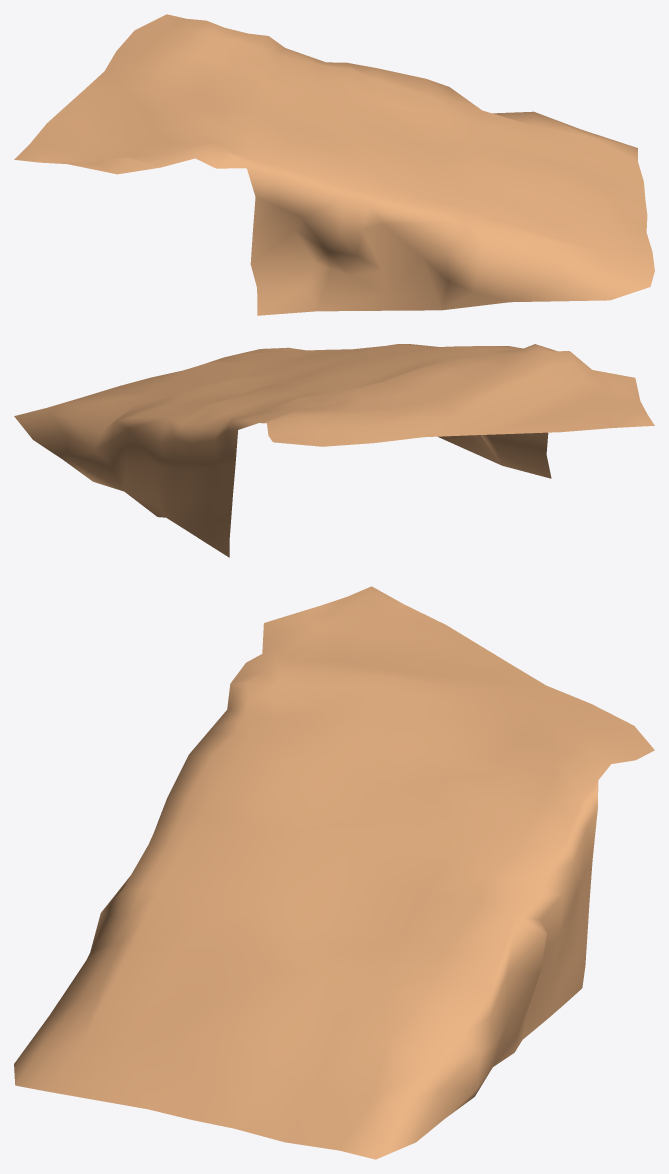
The model's file is relief_4.low.fbx.
3 renders of one model, top to bottom at view 1: azimuth 30°, elevation 25°; view 2: azimuth 150°, elevation 25°; view 3: azimuth 270°, elevation 25°, orthographic. The views are drawn at different scales.
Parts seen in each view (by area): view 1: relief.4.low; view 2: relief.4.low; view 3: relief.4.low.
Part boxes in pixels (bbox=[...]): relief.4.low: bbox=[14, 14, 654, 315]; relief.4.low: bbox=[14, 344, 654, 557]; relief.4.low: bbox=[14, 586, 654, 1159].
Size of the model in its own units: 1717 by 427 by 1188.
